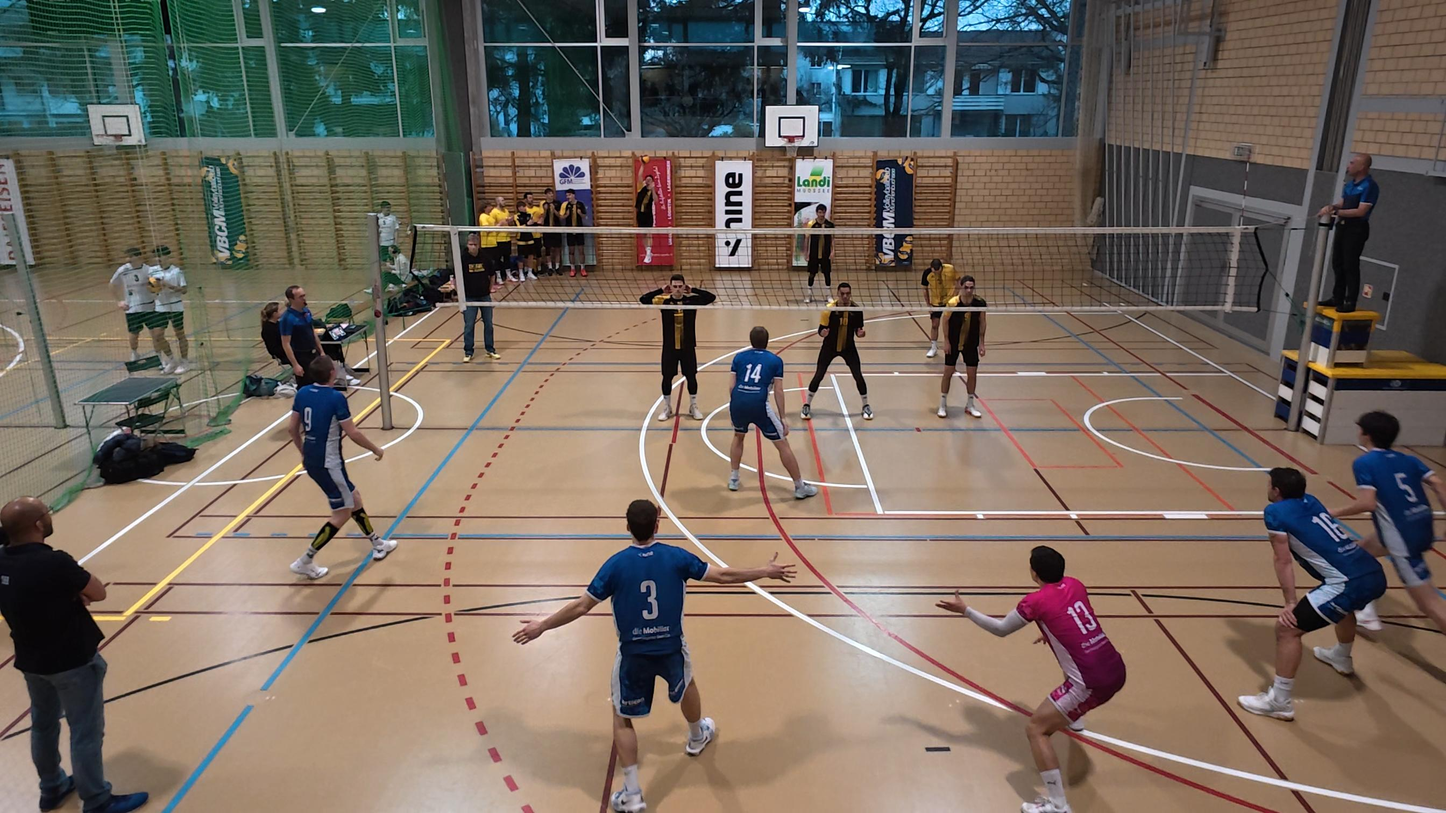battuta: (631, 150, 665, 268)
